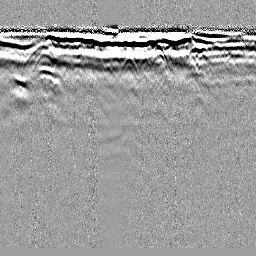cavity: (120, 55, 139, 72)
